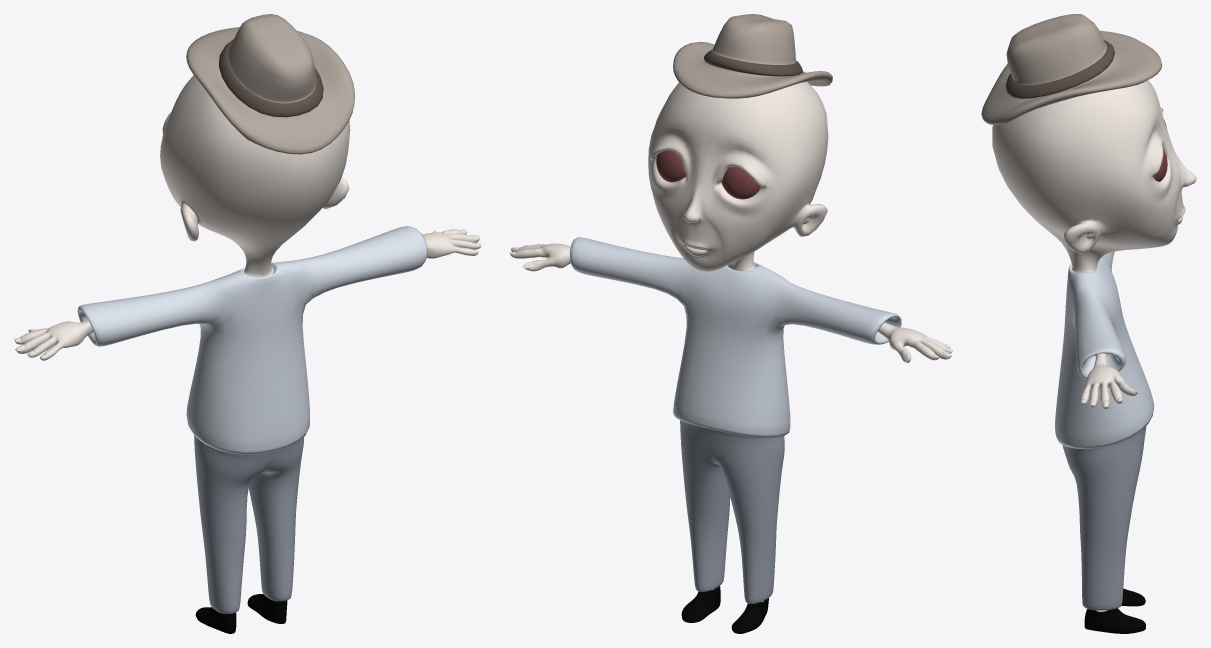
The model's file is Drone.gltf.
The picture shows the model from 3 angles, left to right: view 1: azimuth 30°, elevation 25°; view 2: azimuth 150°, elevation 25°; view 3: azimuth 270°, elevation 25°; orthographic projection. The views are drawn at different scales.
Bounding box in the file's own units: 1.43 × 1.81 × 0.5935.
